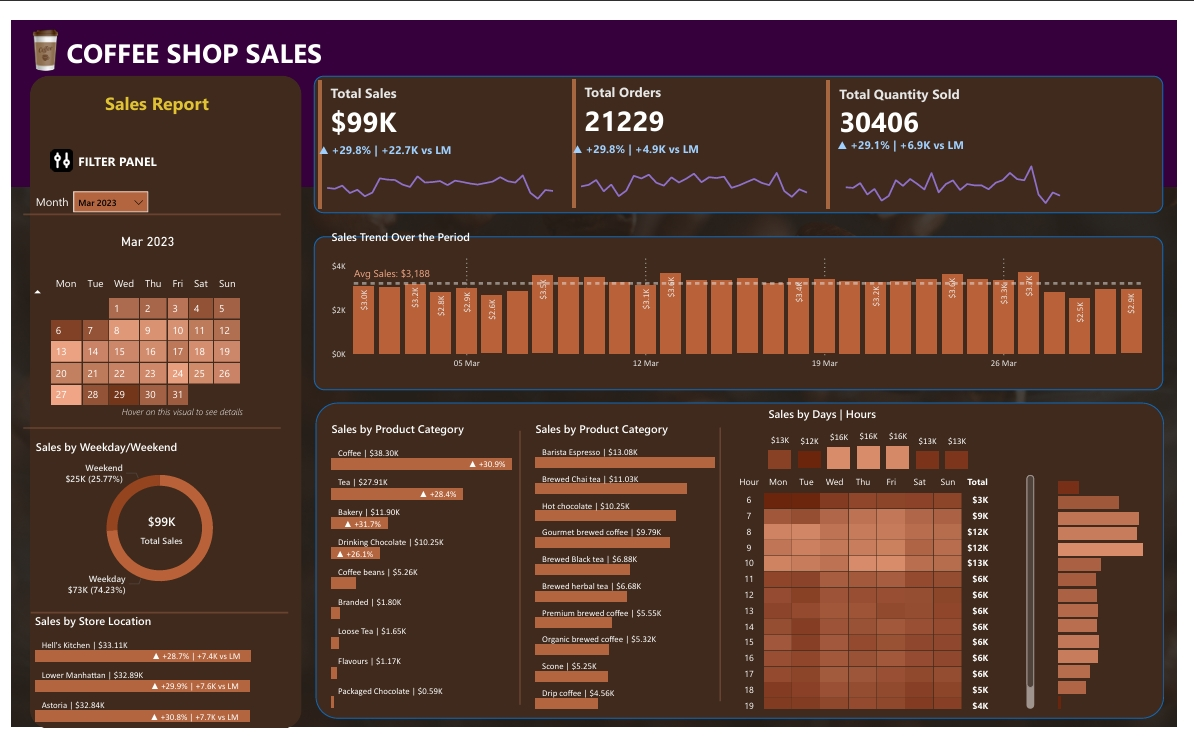

This screenshot's page, from the dashboard's own definition file:
{"tool":"powerbi","page":{"name":"Page 1","canvas":[1400,850],"ordinal":0},"visuals":[{"type":"shape","box":[0,0,1400,200],"z":0},{"type":"shape","box":[22.4,65.7,325.4,785.1],"z":1000},{"type":"shape","box":[363.2,65.5,1019.8,165.2],"z":2000},{"type":"textbox","box":[61.2,10.4,374.6,55.2],"z":3000},{"type":"cardVisual","fields":{"Data":["Transactions.Total Orders"]},"box":[668.4,65.4,300.5,165.2],"z":4000,"group":"g2"},{"type":"cardVisual","fields":{"Data":["Transactions.Total Sales"]},"box":[363.2,65.5,300.5,165.2],"z":4000,"group":"g1"},{"type":"slicer","fields":{"Values":["Date Table.Month Year"]},"box":[68.7,200,100,29.9],"z":4000},{"type":"cardVisual","fields":{"Data":["Transactions.Total Quantity Sold"]},"box":[974.4,66.7,300,165.4],"z":5000},{"type":"group","id":"g1","title":"Group 1","box":[363.2,65.5,301.9,165.2],"z":6000},{"type":"lineChart","fields":{"Category":["Date Table.Date.Variation.Date Hierarchy.Year","Date Table.Date.Variation.Date Hierarchy.Quarter","Date Table.Date.Variation.Date Hierarchy.Month","Date Table.Date.Variation.Date Hierarchy.Day"],"Y":["Transactions.Total Orders"]},"box":[669.8,145.2,300.5,85.5],"z":6000,"group":"g2"},{"type":"lineChart","fields":{"Category":["Date Table.Date.Variation.Date Hierarchy.Year","Date Table.Date.Variation.Date Hierarchy.Quarter","Date Table.Date.Variation.Date Hierarchy.Month","Date Table.Date.Variation.Date Hierarchy.Day"],"Y":["Transactions.Total Sales"]},"box":[364.6,145.3,300.5,85.5],"z":6000,"group":"g1"},{"type":"lineChart","fields":{"Category":["Date Table.Date.Variation.Date Hierarchy.Year","Date Table.Date.Variation.Date Hierarchy.Quarter","Date Table.Date.Variation.Date Hierarchy.Month","Date Table.Date.Variation.Date Hierarchy.Day"],"Y":["Transactions.Total Quantity Sold"]},"box":[987.1,140,287.1,85.7],"z":7000},{"type":"group","id":"g2","title":"Group 2","box":[668.4,65.4,301.3,165.4],"z":8000},{"type":"pivotTable","fields":{"Rows":["Date Table.Week Number"],"Columns":["Date Table.Day Name"],"Values":["Min(Date Table.Day Number)"]},"box":[16.7,298.7,305.1,189.7],"z":9000},{"type":"card","fields":{"Values":["Min(Date Table.Month Year)"]},"box":[123.1,250,80.8,33.3],"z":10000},{"type":"card","fields":{"Values":["Transactions.Foot Note"]},"box":[123.9,457.2,162.4,31.3],"z":11000},{"type":"shape","box":[14.2,219.3,309.1,27.1],"z":12000},{"type":"shape","box":[14.2,475.7,309.1,27.1],"z":13000},{"type":"donutChart","title":"Sales by Weekday/Weekend","fields":{"Category":["Date Table.Weekday/Weekend"],"Y":["Transactions.Total Sales"]},"box":[24.2,502.8,307.6,195.1],"z":14000},{"type":"card","fields":{"Values":["Transactions.Total Sales"]},"box":[145.3,586.8,69.8,48.4],"z":15000},{"type":"shape","box":[22.8,697.9,309.1,27.1],"z":16000},{"type":"clusteredBarChart","title":"Sales by Store Location","fields":{"Category":["Transactions.store_location"],"Y":["Transactions.Placeholder","Transactions.Total Sales"]},"box":[22.8,712.1,296.2,138.2],"z":17000},{"type":"shape","box":[364.6,458.6,1019.8,380.3],"z":18000},{"type":"shape","box":[363.2,259.2,1019.8,185],"z":19000},{"type":"columnChart","title":"Sales Trend Over the Period","fields":{"Category":["Transactions.transaction_date"],"Y":["Transactions.Total Sales"]},"box":[379.1,250.7,986.6,177.6],"z":20000},{"type":"clusteredBarChart","title":"Sales by Product Category","fields":{"Y":["Transactions.Placeholder","Transactions.Total Sales"],"Category":["Transactions.product_category"]},"box":[378.9,481.4,250,350.4],"z":21000},{"type":"shape","box":[455.8,492.8,309.1,329],"z":22000},{"type":"clusteredBarChart","title":"Sales by Product Category","fields":{"Y":["Transactions.Placeholder","Transactions.Total Sales"],"Category":["Transactions.product_type"]},"box":[623.8,481.4,250.7,350.4],"z":23000},{"type":"shape","box":[830,489.3,42,328.7],"z":24000},{"type":"pivotTable","fields":{"Rows":["Transactions.Hour"],"Columns":["Date Table.Day Name"],"Values":["Transactions.Total Sales"]},"box":[863.1,541.2,370.3,290.6],"z":25000},{"type":"barChart","fields":{"Category":["Transactions.Hour"],"Y":["Transactions.Total Sales"]},"box":[1251.9,541.2,131,290.6],"z":26000},{"type":"columnChart","title":"Sales by Days | Hours","fields":{"Y":["Transactions.Total Sales"],"Category":["Date Table.Day Name"]},"box":[904.4,462.9,250.7,81.2],"z":27000},{"type":"textbox","box":[23.9,203,71.6,28.4],"z":28000},{"type":"textbox","box":[107.5,79.1,155.2,40.3],"z":29000},{"type":"textbox","box":[74.6,153.7,129.9,29.9],"z":30000},{"type":"image","box":[41.8,146.3,37.3,41.8],"z":31000},{"type":"image","box":[6,4.5,68.7,61.2],"z":32000}]}

Visuals, with their boxes on the page's 1400x850 design canvas (x1, y1, x2, y2). These are canvas units, not pixel positions in the 1194x748 screenshot, which may show the page scaled, cropped or inside an application window:
shape: x1=0 y1=0 x2=1400 y2=200
shape: x1=22 y1=66 x2=348 y2=851
shape: x1=363 y1=66 x2=1383 y2=231
textbox: x1=61 y1=10 x2=436 y2=66
cardVisual - Transactions.Total Orders: x1=668 y1=65 x2=969 y2=231
cardVisual - Transactions.Total Sales: x1=363 y1=66 x2=664 y2=231
slicer - Date Table.Month Year: x1=69 y1=200 x2=169 y2=230
cardVisual - Transactions.Total Quantity Sold: x1=974 y1=67 x2=1274 y2=232
"Group 1" group: x1=363 y1=66 x2=665 y2=231
lineChart - Date Table.Date.Variation.Date Hierarchy.Year x Date Table.Date.Variation.Date Hierarchy.Quarter: x1=670 y1=145 x2=970 y2=231
lineChart - Date Table.Date.Variation.Date Hierarchy.Year x Date Table.Date.Variation.Date Hierarchy.Quarter: x1=365 y1=145 x2=665 y2=231
lineChart - Date Table.Date.Variation.Date Hierarchy.Year x Date Table.Date.Variation.Date Hierarchy.Quarter: x1=987 y1=140 x2=1274 y2=226
"Group 2" group: x1=668 y1=65 x2=970 y2=231
pivotTable - Date Table.Week Number x Date Table.Day Name: x1=17 y1=299 x2=322 y2=488
card - Min(Date Table.Month Year): x1=123 y1=250 x2=204 y2=283
card - Transactions.Foot Note: x1=124 y1=457 x2=286 y2=488
shape: x1=14 y1=219 x2=323 y2=246
shape: x1=14 y1=476 x2=323 y2=503
"Sales by Weekday/Weekend" donutChart: x1=24 y1=503 x2=332 y2=698
card - Transactions.Total Sales: x1=145 y1=587 x2=215 y2=635
shape: x1=23 y1=698 x2=332 y2=725
"Sales by Store Location" clusteredBarChart: x1=23 y1=712 x2=319 y2=850
shape: x1=365 y1=459 x2=1384 y2=839
shape: x1=363 y1=259 x2=1383 y2=444
"Sales Trend Over the Period" columnChart: x1=379 y1=251 x2=1366 y2=428
"Sales by Product Category" clusteredBarChart: x1=379 y1=481 x2=629 y2=832
shape: x1=456 y1=493 x2=765 y2=822
"Sales by Product Category" clusteredBarChart: x1=624 y1=481 x2=874 y2=832
shape: x1=830 y1=489 x2=872 y2=818
pivotTable - Transactions.Hour x Date Table.Day Name: x1=863 y1=541 x2=1233 y2=832
barChart - Transactions.Hour x Transactions.Total Sales: x1=1252 y1=541 x2=1383 y2=832
"Sales by Days | Hours" columnChart: x1=904 y1=463 x2=1155 y2=544
textbox: x1=24 y1=203 x2=96 y2=231
textbox: x1=108 y1=79 x2=263 y2=119
textbox: x1=75 y1=154 x2=204 y2=184
image: x1=42 y1=146 x2=79 y2=188
image: x1=6 y1=4 x2=75 y2=66
